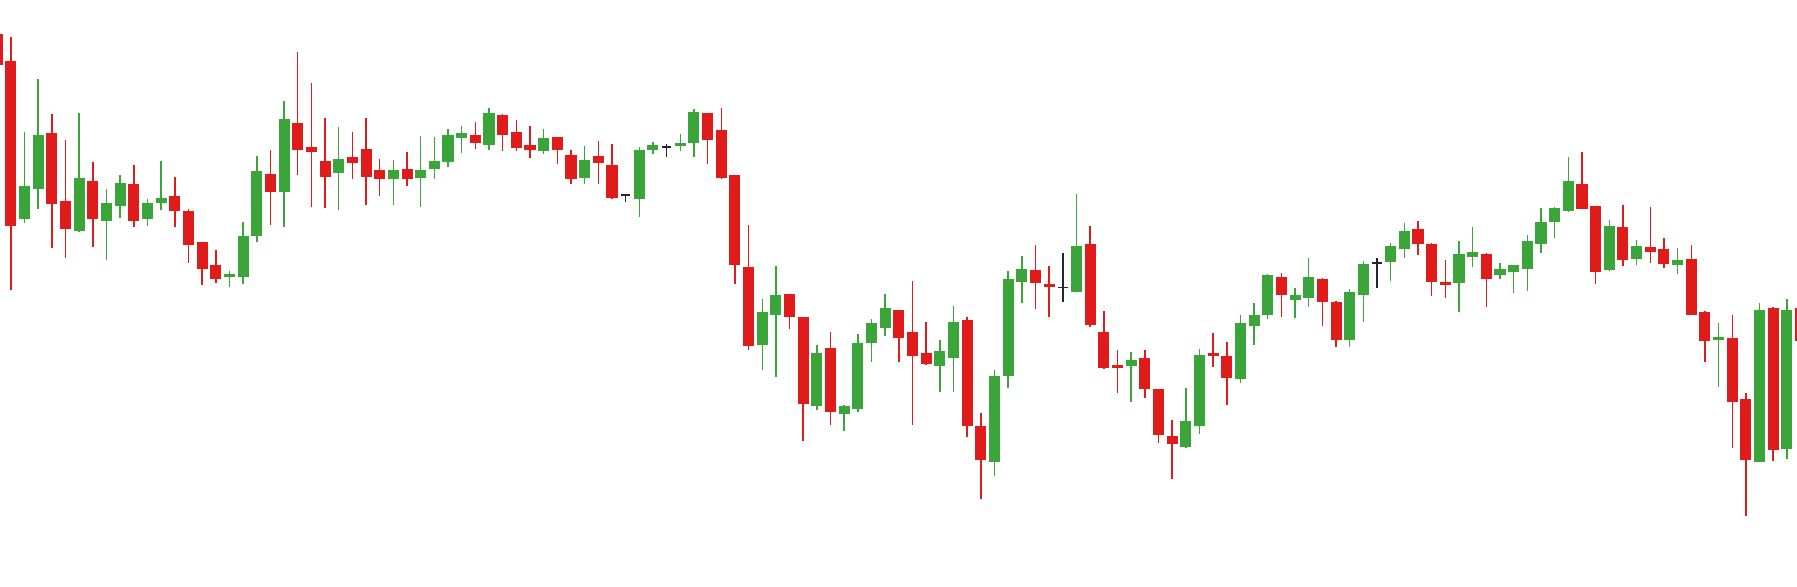buy: (795, 351, 1002, 494)
sell: (477, 109, 715, 173)
